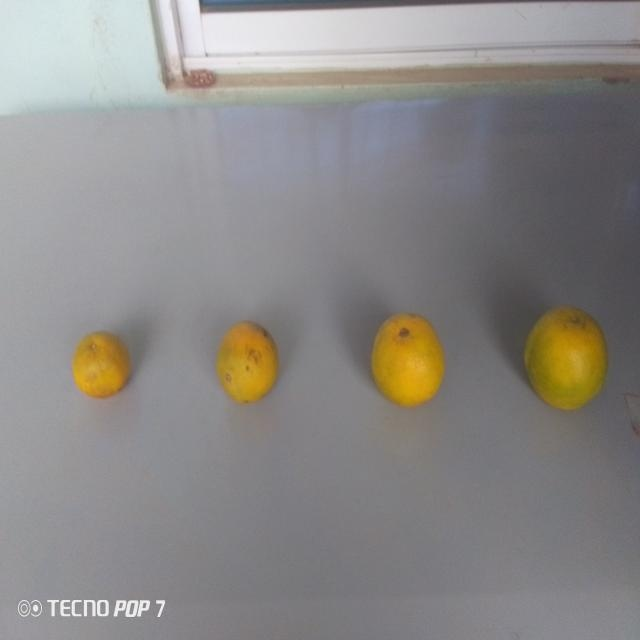agrume: (510, 282, 612, 426), (364, 303, 461, 422), (213, 309, 281, 413), (66, 324, 141, 417)
